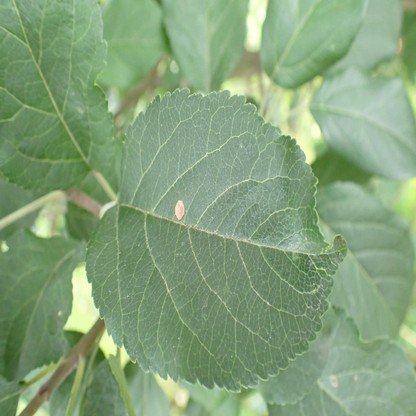frogeye_leaf_spot: (174, 200, 185, 220)
